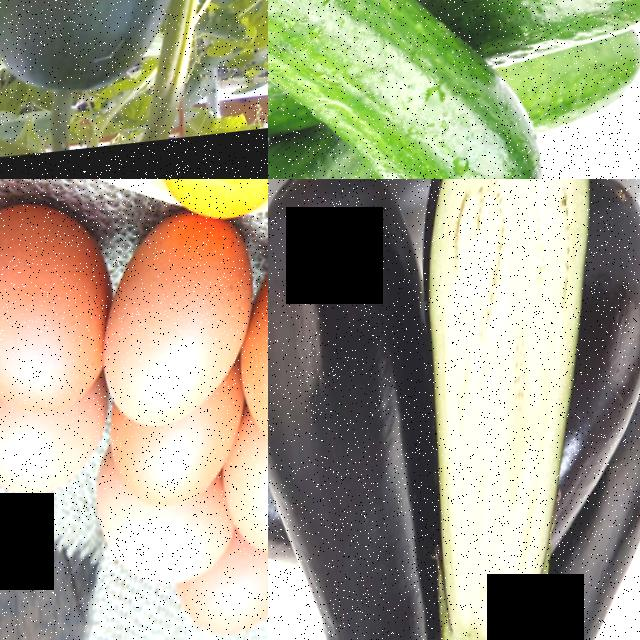cucumber: (328, 22, 549, 179), (0, 0, 211, 107), (459, 0, 640, 77)
egg_: (102, 220, 252, 429), (0, 195, 110, 422), (107, 408, 234, 515), (93, 503, 224, 596), (0, 405, 95, 506), (187, 561, 268, 640), (154, 179, 268, 232), (231, 447, 268, 566)
eggplant: (408, 179, 591, 640), (268, 179, 428, 640)
